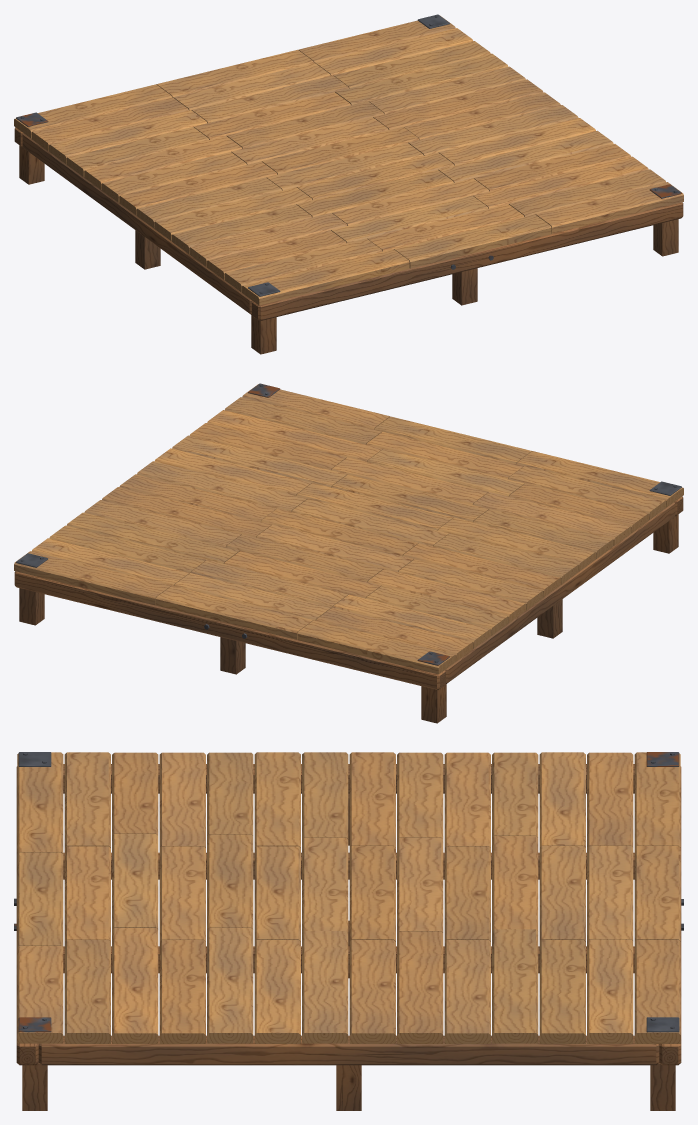
The model's file is makine_platformu_buyuk.glb.
3 renders of one model, top to bottom at view 1: azimuth 30°, elevation 25°; view 2: azimuth 150°, elevation 25°; view 3: azimuth 270°, elevation 25°, orthographic. The views are drawn at different scales.
Parts seen in each view (by area): view 1: makine_platformu_buyuk; view 2: makine_platformu_buyuk; view 3: makine_platformu_buyuk.
Boxes of the visible parts, x1,y1,x2,y2 form: makine_platformu_buyuk: (14,14,683,354); makine_platformu_buyuk: (14,383,683,723); makine_platformu_buyuk: (14,752,683,1110).
Bounding box in the file's own units: 9 × 1.24 × 9.07.
Materials: 1 (1 with a texture image).
